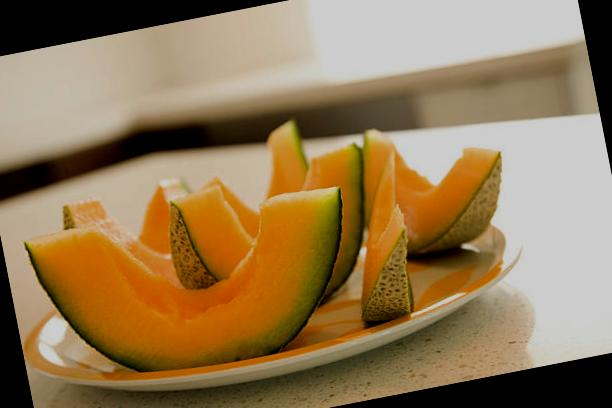Melon Ripe: (25, 177, 370, 395), (352, 104, 518, 264), (337, 150, 426, 326)
